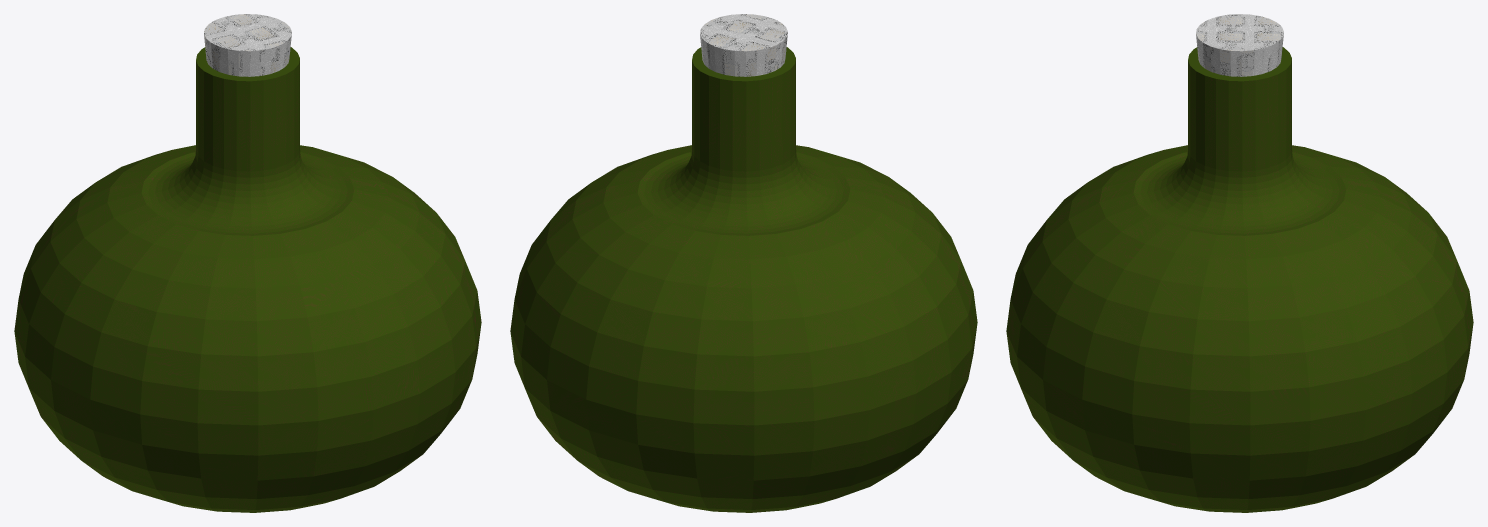
3 views of the same model, side by side, from view 1: azimuth 30°, elevation 25°; view 2: azimuth 150°, elevation 25°; view 3: azimuth 270°, elevation 25° (orthographic).
Parts seen in each view (by area): view 1: mesh1_mesh1-geometry; view 2: mesh1_mesh1-geometry; view 3: mesh1_mesh1-geometry.
Part boxes in pixels (bbox=[...]): mesh1_mesh1-geometry: bbox=[14, 14, 481, 512]; mesh1_mesh1-geometry: bbox=[510, 14, 977, 512]; mesh1_mesh1-geometry: bbox=[1006, 14, 1473, 512].
Bounding box in the file's own units: 0.5744 × 0.5832 × 0.5744.
